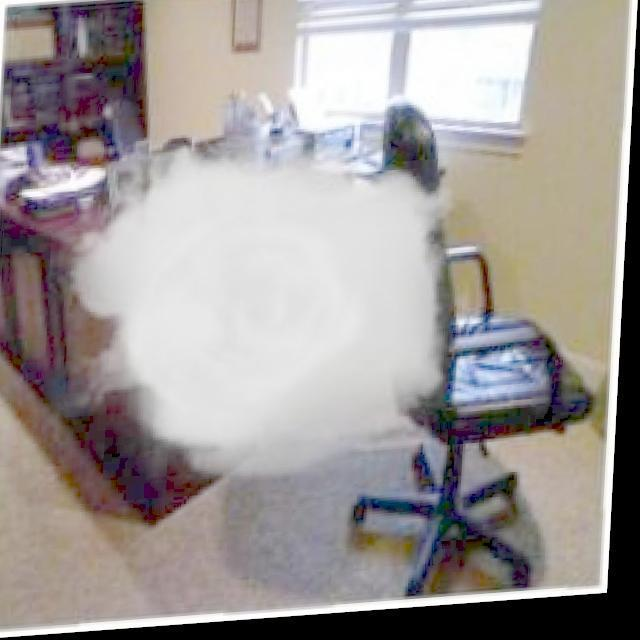Smoke: (66, 126, 474, 507)
